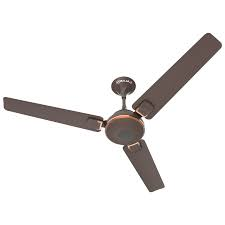CeilingFan: (4, 43, 219, 193)
